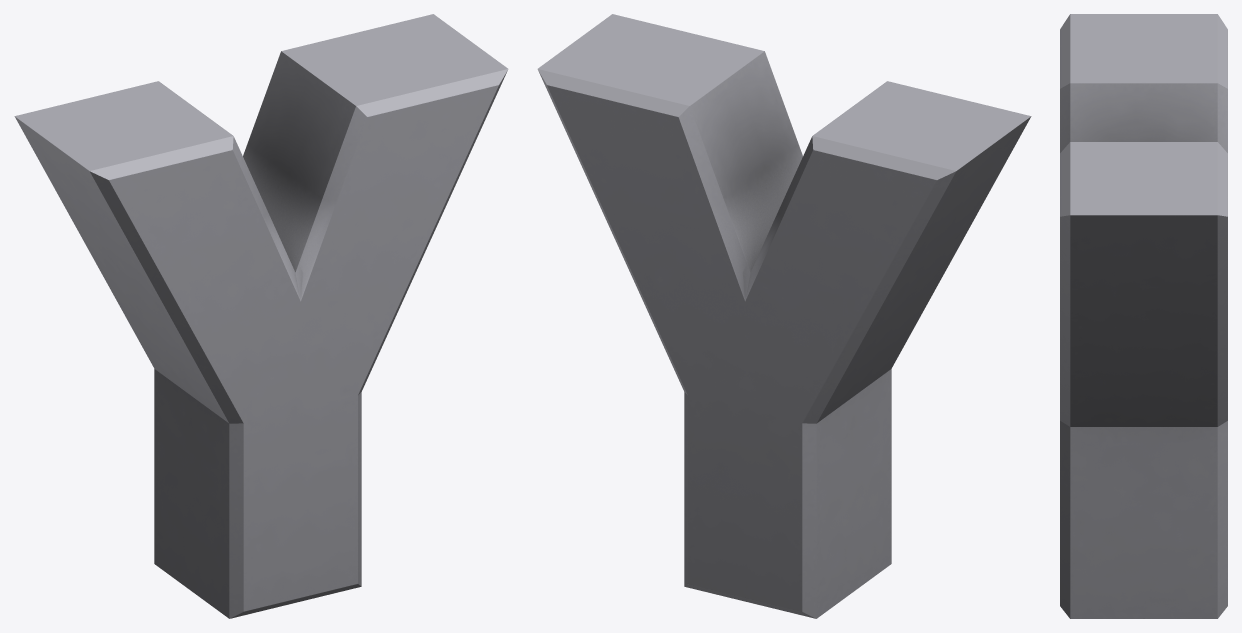
The model's file is Y_static.fbx.
3 views of the same model, side by side, from view 1: azimuth 30°, elevation 25°; view 2: azimuth 150°, elevation 25°; view 3: azimuth 270°, elevation 25° (orthographic).
Parts seen in each view (by area): view 1: Y_static; view 2: Y_static; view 3: Y_static.
Part boxes in pixels (bbox=[...]): Y_static: bbox=[14, 14, 508, 618]; Y_static: bbox=[537, 14, 1031, 618]; Y_static: bbox=[1060, 14, 1227, 618].
Size of the model in its own units: 93.51 by 103 by 33.
